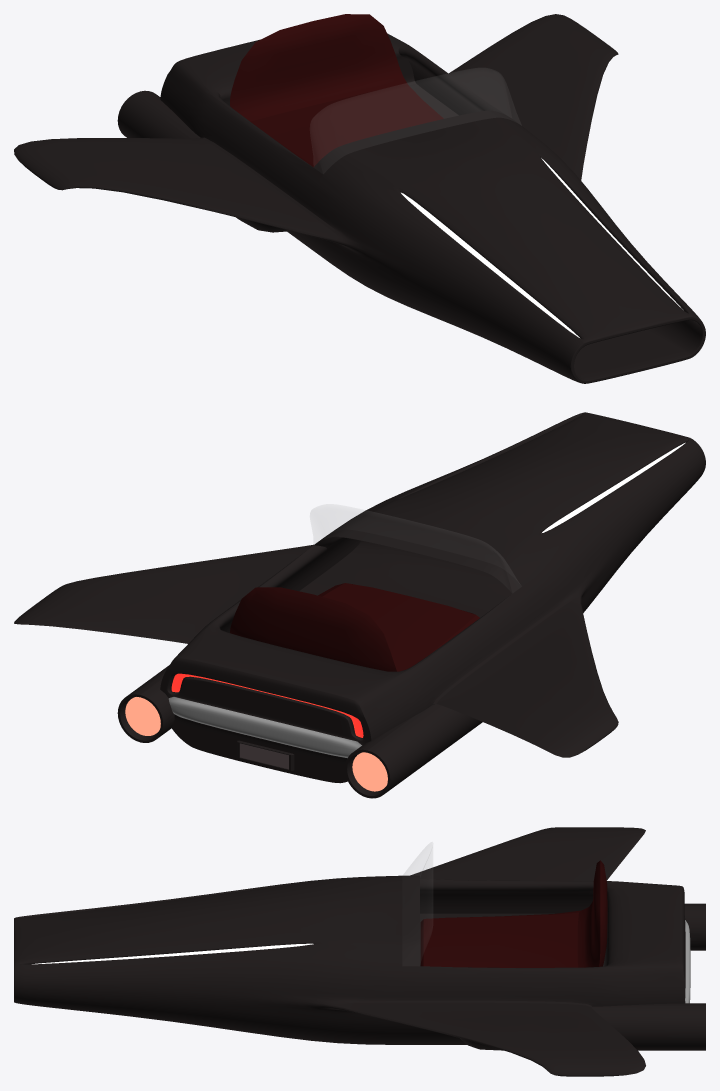
Rendered from airspeeder.glb.
3 renders of one model, top to bottom at view 1: azimuth 30°, elevation 25°; view 2: azimuth 150°, elevation 25°; view 3: azimuth 270°, elevation 25°, orthographic. The views are drawn at different scales.
Visible parts, largest first — view 1: Airspeeder_Body_0, Airspeeder_Headlights_0; view 2: Airspeeder_Body_0, Airspeeder_Engine_0, Airspeeder_Headlights_0, Airspeeder_BrakeLights_0; view 3: Airspeeder_Body_0, Airspeeder_Headlights_0.
Part boxes in pixels (x1=…): Airspeeder_Body_0: x1=14, y1=14, x2=705, y2=383; Airspeeder_Headlights_0: x1=401, y1=158, x2=682, y2=337; Airspeeder_Body_0: x1=14, y1=412, x2=705, y2=798; Airspeeder_Engine_0: x1=125, y1=697, x2=387, y2=791; Airspeeder_Headlights_0: x1=542, y1=442, x2=685, y2=532; Airspeeder_BrakeLights_0: x1=171, y1=673, x2=363, y2=737; Airspeeder_Body_0: x1=14, y1=827, x2=705, y2=1076; Airspeeder_Headlights_0: x1=32, y1=943, x2=313, y2=964.
Bounding box in the file's own units: 3.64 × 0.9649 × 4.31.
5 materials, 5 textured.
